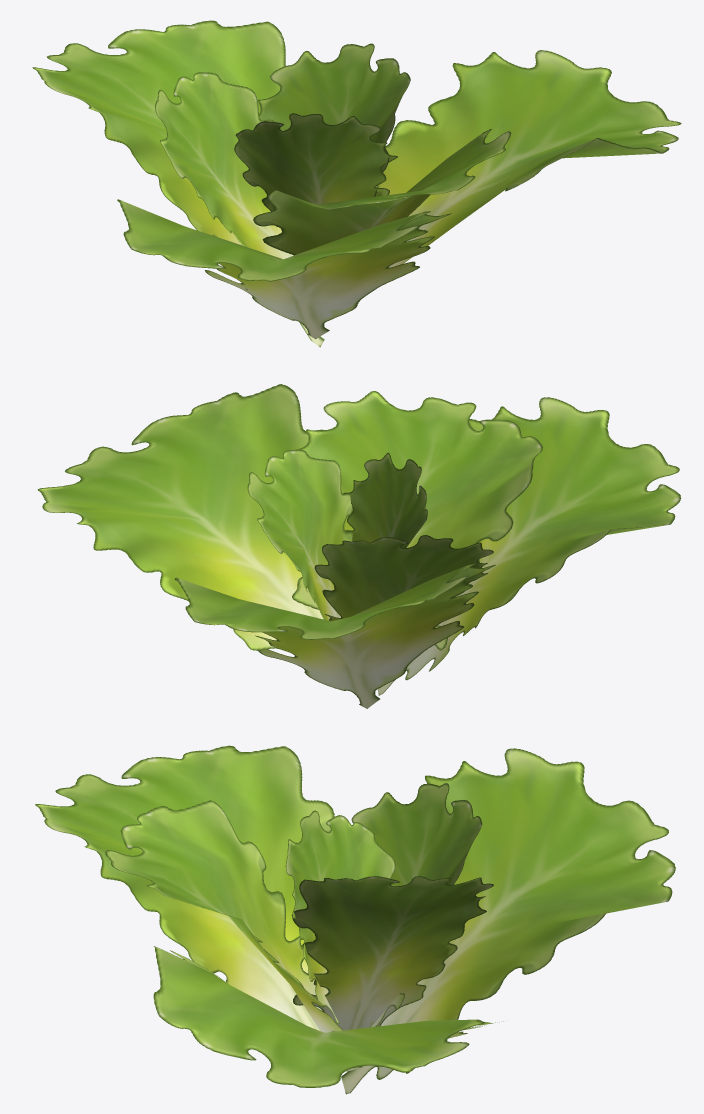
Rendered from plant_lettuce_S2.fbx.
3 renders of one model, top to bottom at view 1: azimuth 30°, elevation 25°; view 2: azimuth 150°, elevation 25°; view 3: azimuth 270°, elevation 25°, orthographic. The views are drawn at different scales.
Visible parts, largest first — view 1: plant_lettuce_S2; view 2: plant_lettuce_S2; view 3: plant_lettuce_S2.
Part boxes in pixels (left/top/right/bottom): plant_lettuce_S2: left=32, top=20, right=681, bottom=347; plant_lettuce_S2: left=37, top=384, right=681, bottom=708; plant_lettuce_S2: left=35, top=745, right=675, bottom=1094.
Size of the model in its own units: 0.2726 by 0.1114 by 0.2514.
